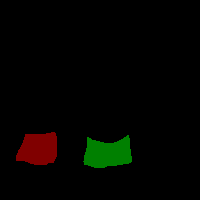mutande: (83, 134, 132, 168), (15, 132, 57, 165)
